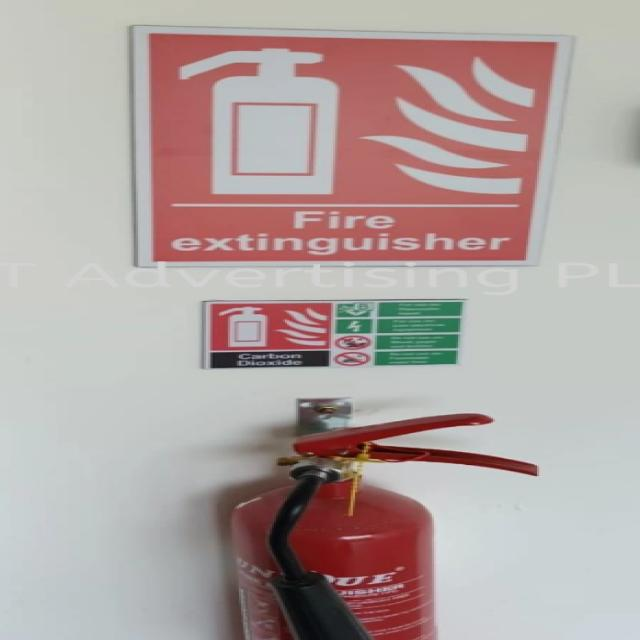fire extinguisher: (139, 380, 560, 636)
fire signage: (112, 14, 587, 363)
